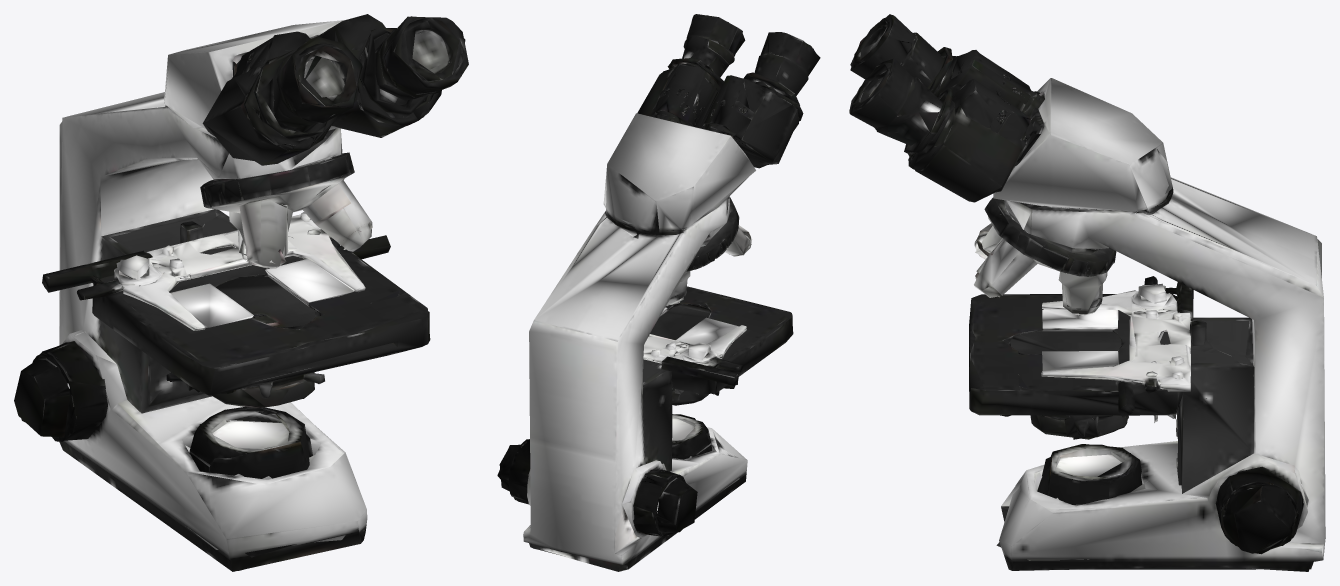
The model's file is microscopio.glb.
The picture shows the model from 3 angles, left to right: view 1: azimuth 30°, elevation 25°; view 2: azimuth 150°, elevation 25°; view 3: azimuth 270°, elevation 25°; orthographic projection. The views are drawn at different scales.
Parts seen in each view (by area): view 1: geometry_0; view 2: geometry_0; view 3: geometry_0.
Part boxes in pixels (x1,y1,x2,y2): geometry_0: (14,14,468,571); geometry_0: (497,14,820,571); geometry_0: (849,14,1325,571).
Bounding box in the file's own units: 0.5515 × 0.9995 × 0.8552.
1 material, 1 textured.
